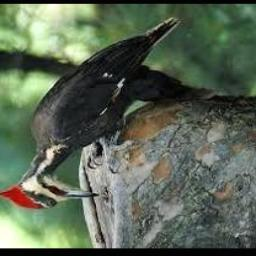Woodpecker: (0, 19, 182, 209)
